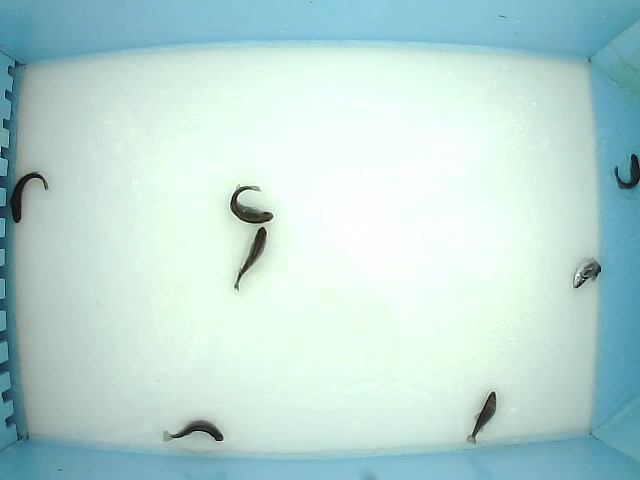fish: (233, 226, 268, 294), (8, 170, 50, 225), (229, 181, 276, 226), (465, 389, 498, 446), (161, 418, 225, 443), (612, 152, 640, 192), (571, 257, 602, 290)
